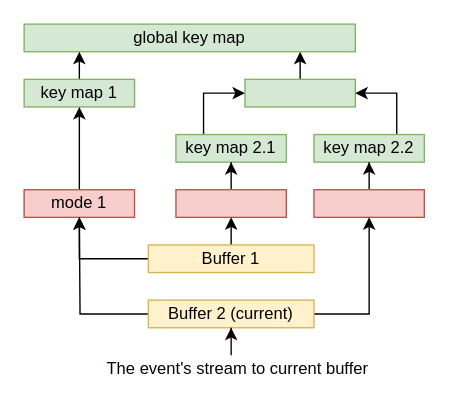
This 449x407 diagram has some shape labels left out. The shapes that lost their labels are listed below. From the top down, each one's centre as x and y in pixels, then its label:
At [299,92]: "key map 2".
At [230,202]: "mode 2.1".
At [368,202]: "mode 2.2".
